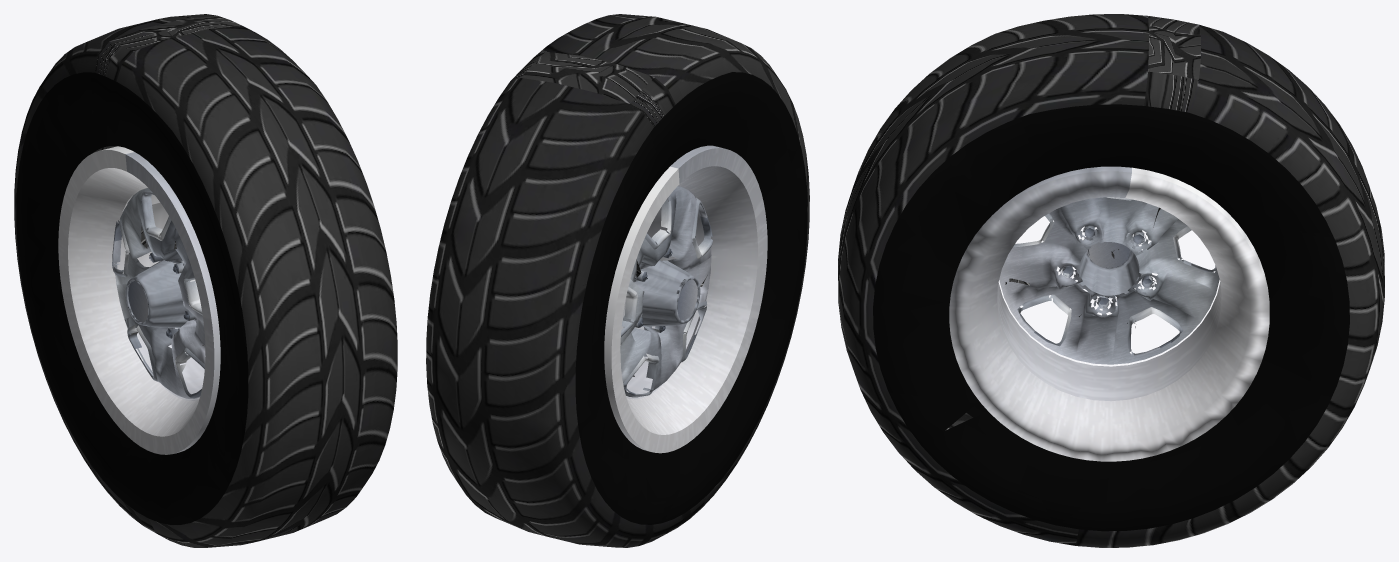
Rendered from LlantaLucasIzq.fbx.
The picture shows the model from 3 angles, left to right: view 1: azimuth 30°, elevation 25°; view 2: azimuth 150°, elevation 25°; view 3: azimuth 270°, elevation 25°; orthographic projection. The views are drawn at different scales.
Parts seen in each view (by area): view 1: LlantaDelanteraIzquierda; view 2: LlantaDelanteraIzquierda; view 3: LlantaDelanteraIzquierda.
Boxes of the visible parts, x1,y1,x2,y2 form: LlantaDelanteraIzquierda: (14, 14, 397, 547); LlantaDelanteraIzquierda: (426, 14, 809, 547); LlantaDelanteraIzquierda: (838, 14, 1384, 547).
Bounding box in the file's own units: 17.59 × 52.46 × 53.17.
